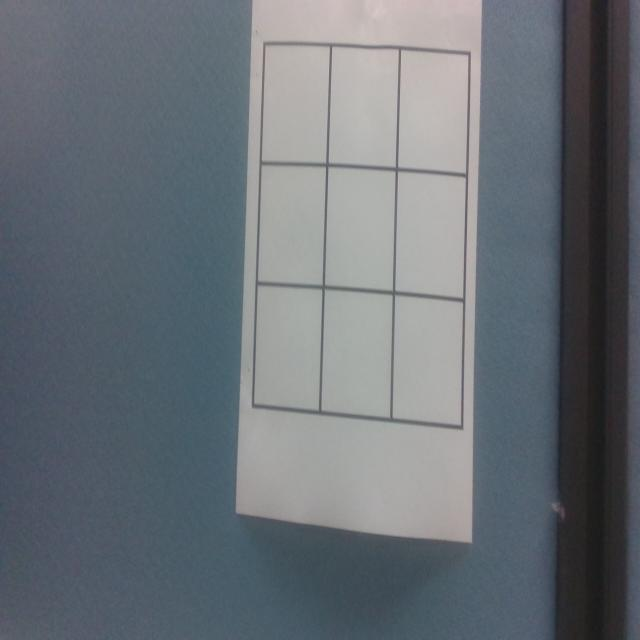null: (321, 286, 393, 421), (393, 294, 464, 429), (396, 170, 467, 303), (325, 167, 398, 295), (253, 284, 323, 414), (398, 49, 470, 174), (329, 47, 401, 170), (262, 44, 330, 167), (259, 166, 327, 288)
table: (252, 35, 471, 434)
